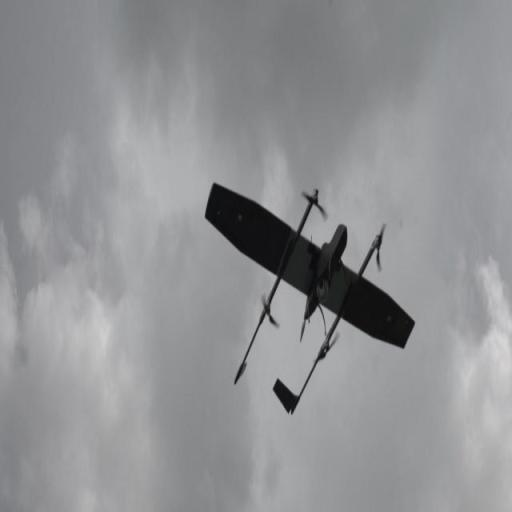uav: (199, 176, 422, 422)
